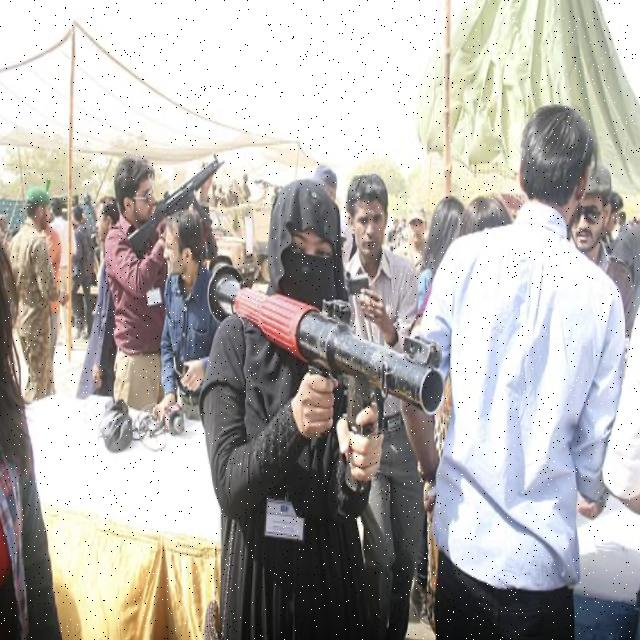bazooka: (201, 251, 468, 544)
